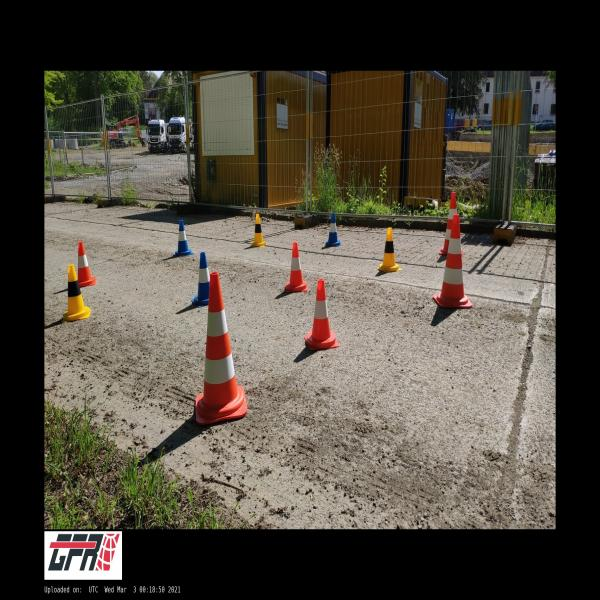blue_cone: (192, 252, 210, 308), (173, 220, 194, 256), (325, 213, 341, 246)
large_orange_cone: (196, 272, 247, 425), (433, 214, 472, 308), (439, 192, 463, 255)
orange_cone: (304, 279, 339, 350), (286, 242, 308, 292), (78, 242, 96, 287)
yellow_cone: (62, 264, 91, 322), (376, 228, 402, 272), (250, 214, 268, 247)
